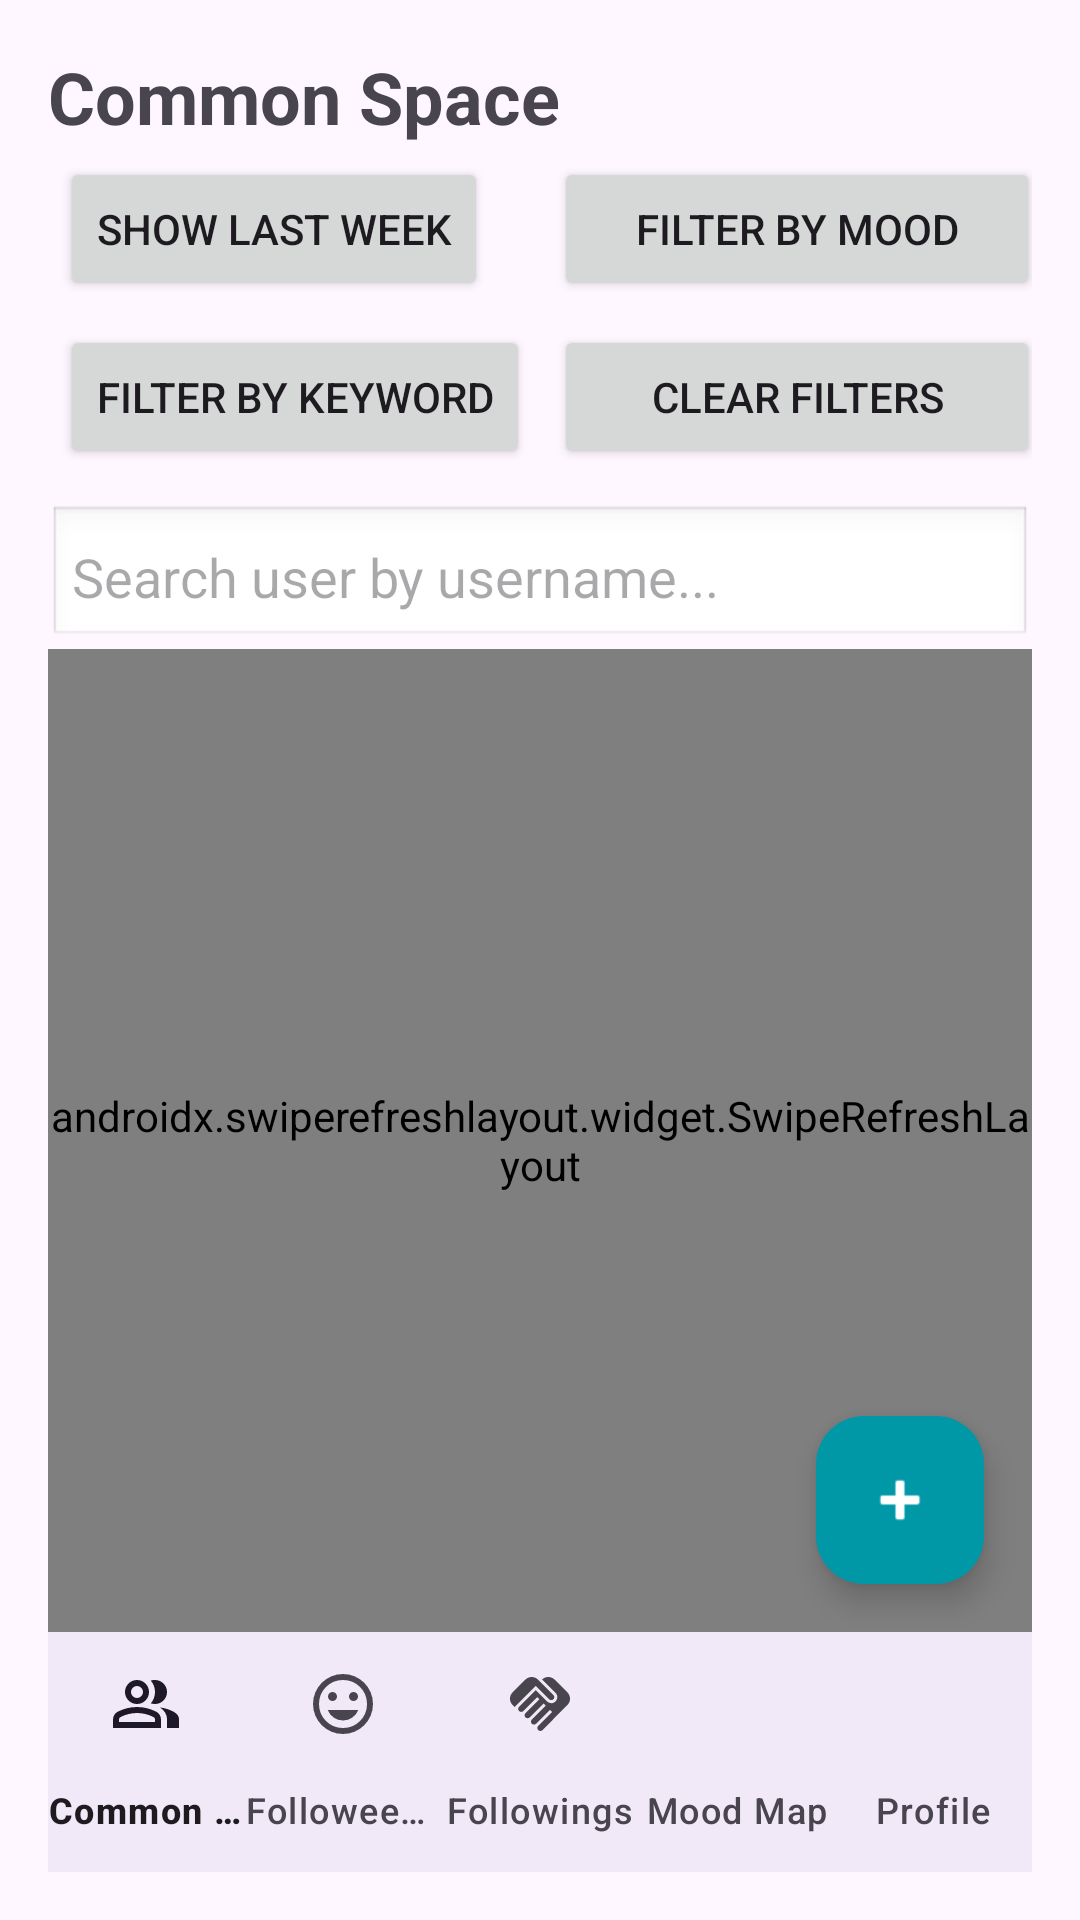

Icons on this 1080 × 1920 Android screen, each with the point to tap as [x,y]:
Add Mood: [900,1500]
